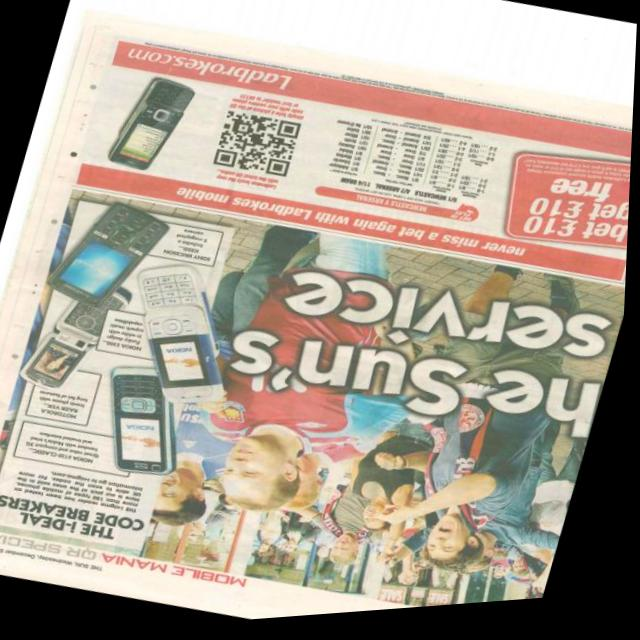qrcode: (214, 110, 304, 185)
